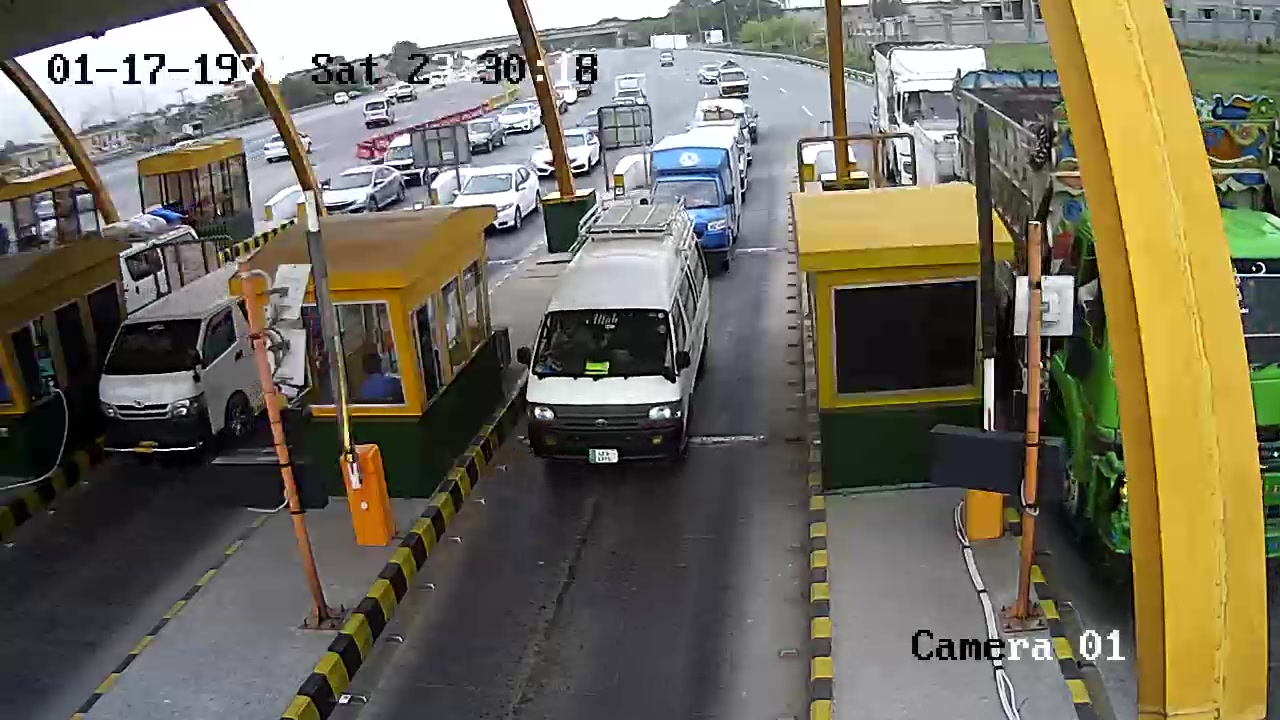F2: (521, 187, 718, 496)
